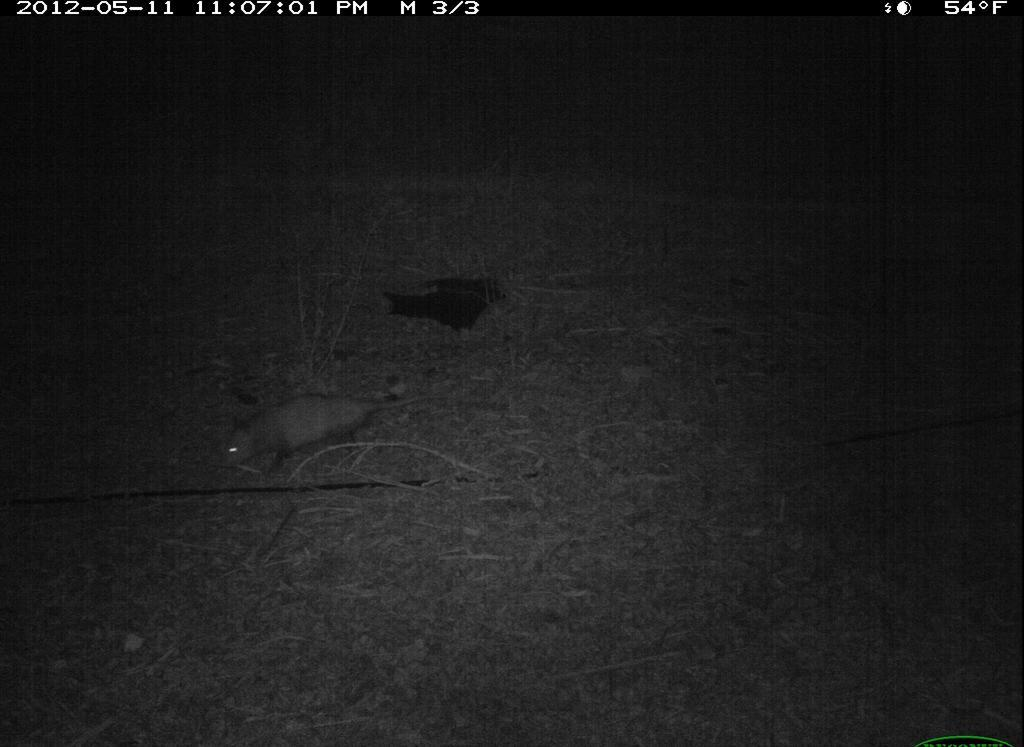opossum: (215, 385, 463, 488)
